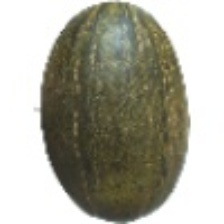honeydew: (13, 6, 169, 186)
